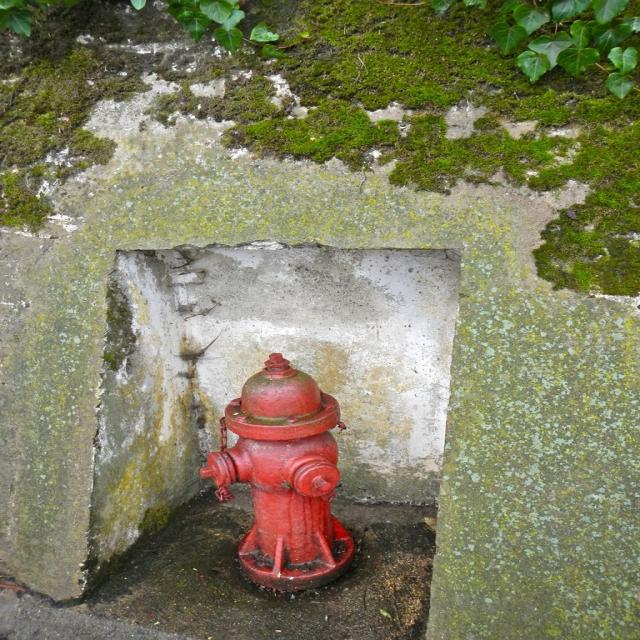fire_hydrant: (198, 352, 360, 593)
